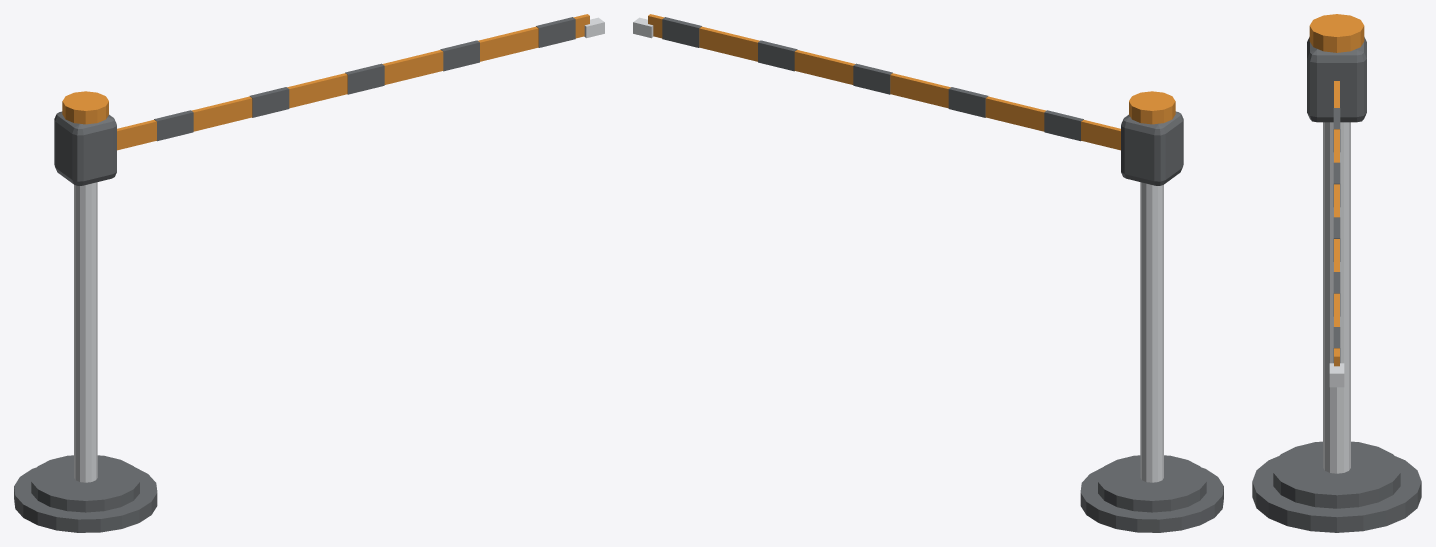
The model's file is tool-hire-depot-and-plant-yard-tool-hire-depot-and-pla-47f26770__35303.glb.
3 renders of one model, left to right at view 1: azimuth 30°, elevation 25°; view 2: azimuth 150°, elevation 25°; view 3: azimuth 270°, elevation 25°, orthographic. The views are drawn at different scales.
Parts seen in each view (by area): view 1: tool-hire-depot-and-plant-yard-queue-rail-post; view 2: tool-hire-depot-and-plant-yard-queue-rail-post; view 3: tool-hire-depot-and-plant-yard-queue-rail-post.
Boxes of the visible parts, x1,y1,x2,y2 form: tool-hire-depot-and-plant-yard-queue-rail-post: (14,14,604,532); tool-hire-depot-and-plant-yard-queue-rail-post: (633,14,1223,532); tool-hire-depot-and-plant-yard-queue-rail-post: (1252,14,1421,532).
Size of the model in its own units: 1.57 by 1.04 by 0.34.
